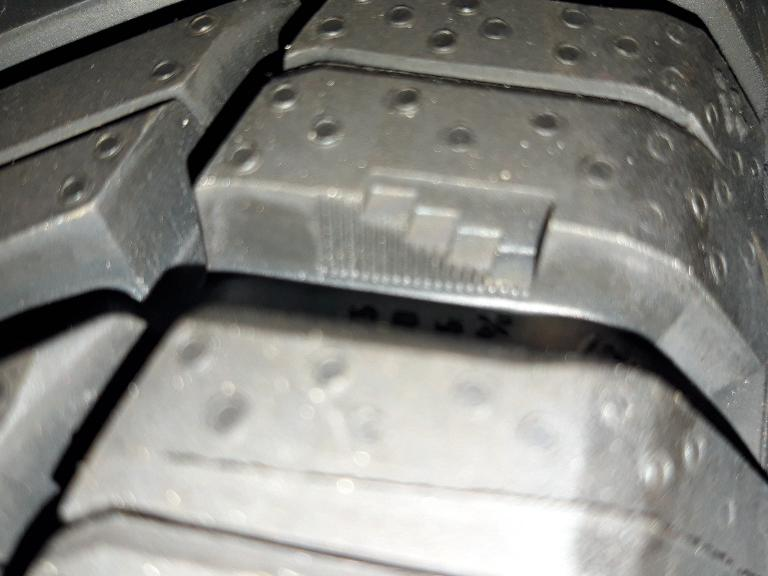temoin:100: (303, 157, 566, 313)
